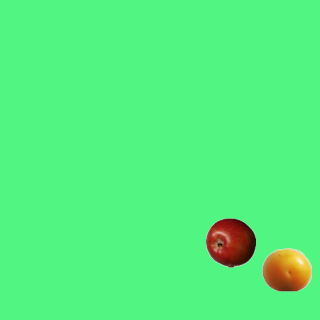Apple Braeburn: (205, 217, 255, 267)
Cherry Wax Yellow: (261, 244, 311, 294)
